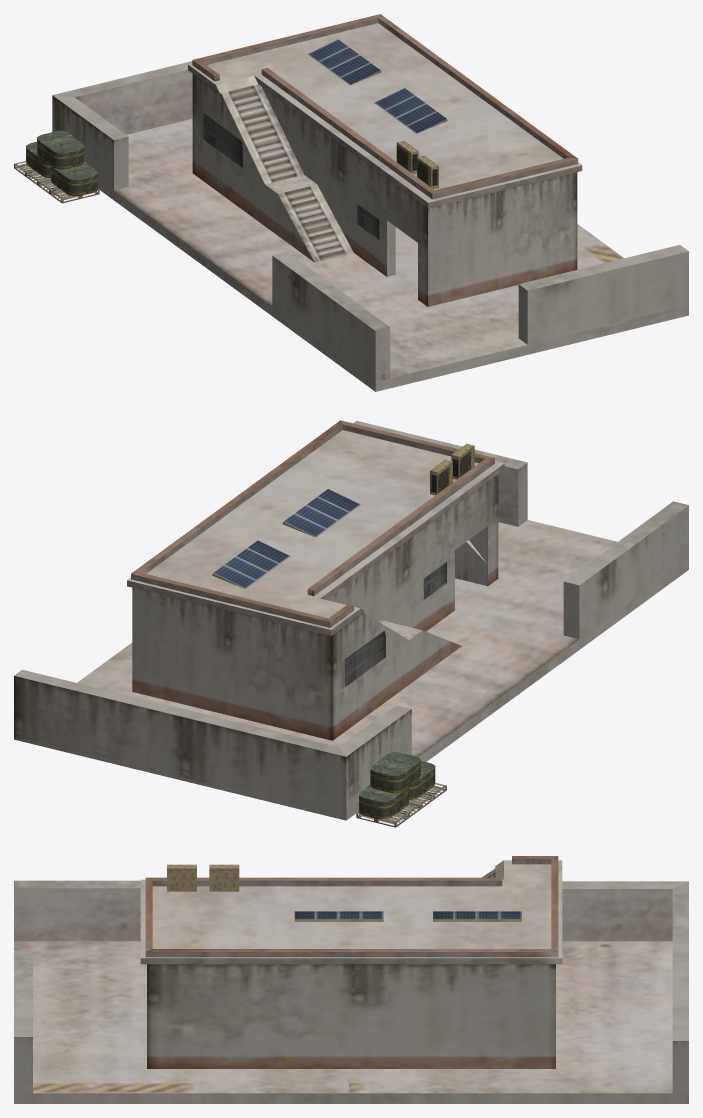
The model's file is AssetsA_House2_BRC01_Break.fbx.
3 views of the same model, one above another, from view 1: azimuth 30°, elevation 25°; view 2: azimuth 150°, elevation 25°; view 3: azimuth 270°, elevation 25° (orthographic). The views are drawn at different scales.
Parts seen in each view (by area): view 1: Break_None, Break_House_27, Break_House_12, Break_House_13, Break_House_18, Break_House_21, Break_House_09, Break_House_16, Break_House_35, Break_House_14, Break_House_15, Break_House_19 (+14 smaller); view 2: Break_None, Break_House_35, Break_House_12, Break_House_17, Break_House_25, Break_House_13, Break_House_16, Break_House_09, Break_House_14, Break_House_19, Break_House_15, Break_House_28 (+16 smaller); view 3: Break_None, Break_House_26, Break_House_07, Break_House_12, Break_House_06, Break_House_13, Break_House_09, Break_House_15, Break_House_20, Break_House_14, Break_House_11, Break_House_19 (+8 smaller).
Boxes of the visible parts, bbox=[...] form: Break_None: bbox=[98, 102, 688, 391]; Break_House_27: bbox=[418, 172, 577, 306]; Break_House_12: bbox=[374, 118, 582, 208]; Break_House_13: bbox=[188, 58, 400, 168]; Break_House_18: bbox=[518, 245, 688, 316]; Break_House_21: bbox=[239, 118, 329, 242]; Break_House_09: bbox=[345, 14, 522, 123]; Break_House_16: bbox=[52, 61, 192, 124]; Break_House_35: bbox=[192, 74, 276, 172]; Break_House_14: bbox=[230, 14, 380, 83]; Break_House_15: bbox=[52, 95, 128, 190]; Break_House_19: bbox=[272, 252, 389, 330]; Break_None: bbox=[14, 490, 688, 820]; Break_House_35: bbox=[209, 596, 384, 740]; Break_House_12: bbox=[282, 420, 504, 516]; Break_House_17: bbox=[14, 669, 205, 755]; Break_House_25: bbox=[132, 587, 233, 710]; Break_House_13: bbox=[290, 501, 447, 635]; Break_House_16: bbox=[186, 714, 345, 788]; Break_House_09: bbox=[127, 463, 290, 580]; Break_House_14: bbox=[127, 558, 293, 626]; Break_House_19: bbox=[563, 501, 688, 628]; Break_House_15: bbox=[311, 705, 411, 801]; Break_House_28: bbox=[333, 631, 404, 740]; Break_None: bbox=[14, 888, 688, 1103]; Break_House_26: bbox=[259, 964, 490, 1068]; Break_House_07: bbox=[147, 964, 286, 1068]; Break_House_12: bbox=[140, 877, 329, 964]; Break_House_06: bbox=[446, 964, 555, 1068]; Break_House_13: bbox=[261, 860, 562, 913]; Break_House_09: bbox=[260, 910, 562, 964]; Break_House_15: bbox=[562, 881, 688, 940]; Break_House_20: bbox=[322, 1000, 476, 1068]; Break_House_14: bbox=[438, 875, 562, 957]; Break_House_11: bbox=[256, 910, 437, 964]; Break_House_19: bbox=[14, 880, 140, 918].
Bounding box in the file's own units: 1262 × 472 × 1985.
